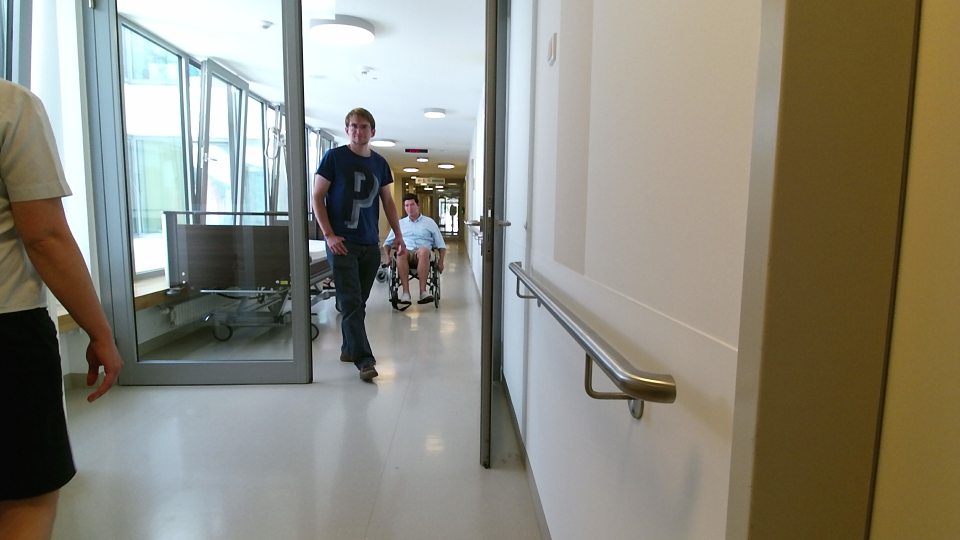wheelchair: (381, 195, 443, 304)
